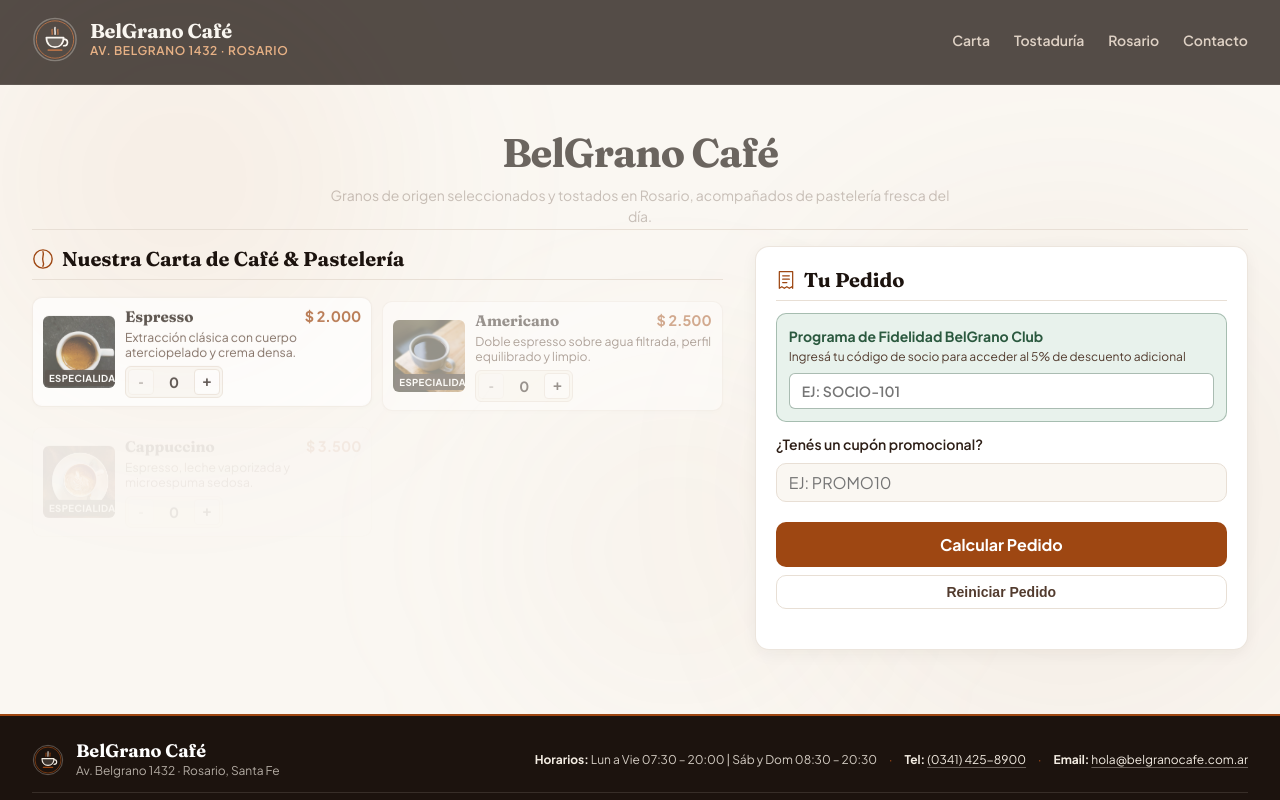
Test: Integration Tests: Flujos de Interfaz y Negocio (React Testing Library) › permite seleccionar un producto, modificar cantidad y calcular total sin descuentos (< $10.000)
This screenshot has width=1280, height=800.
Note: Incrementar 2 unidades de Espresso ($2.000 c/u)
Click the button named "Aumentar cantidad de Espresso".
click(207, 382)  # box [194,369,220,395]
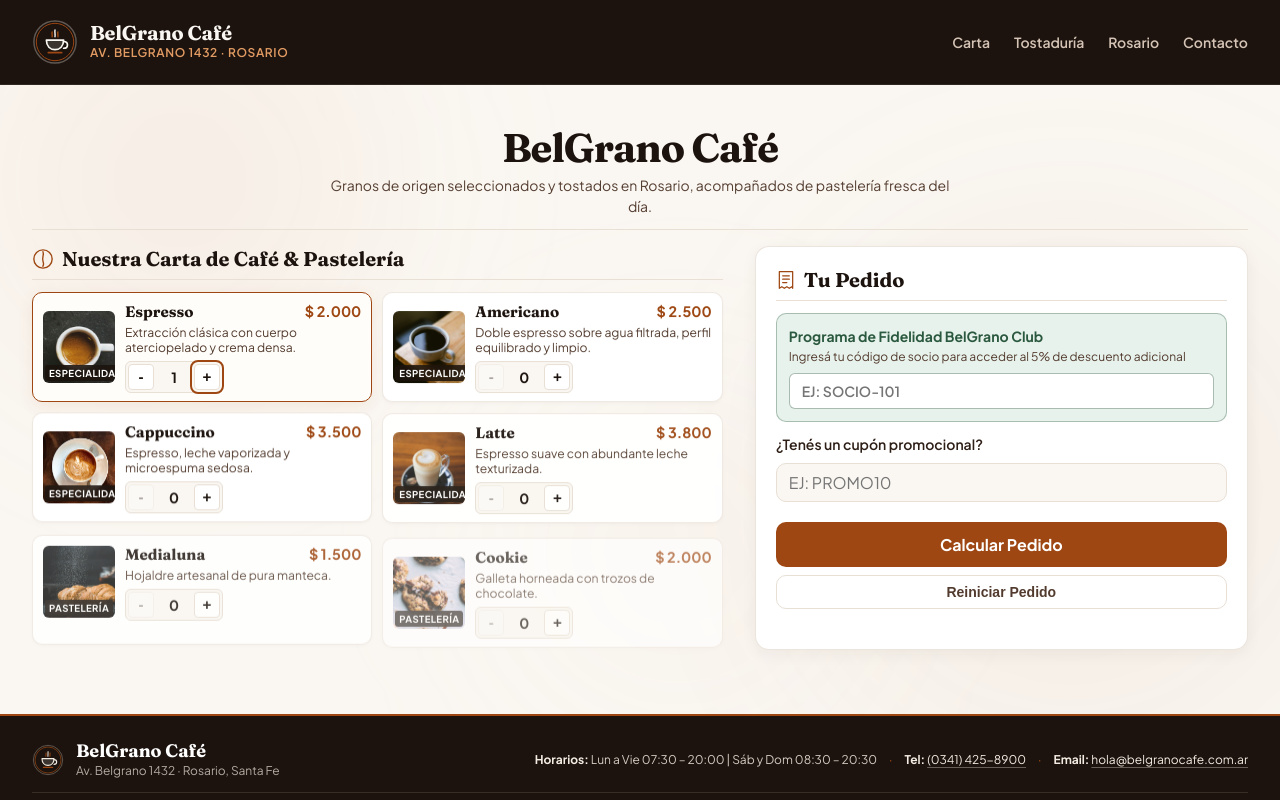
Click the button named "Aumentar cantidad de Espresso".
click(207, 377)  # box [194,364,220,390]
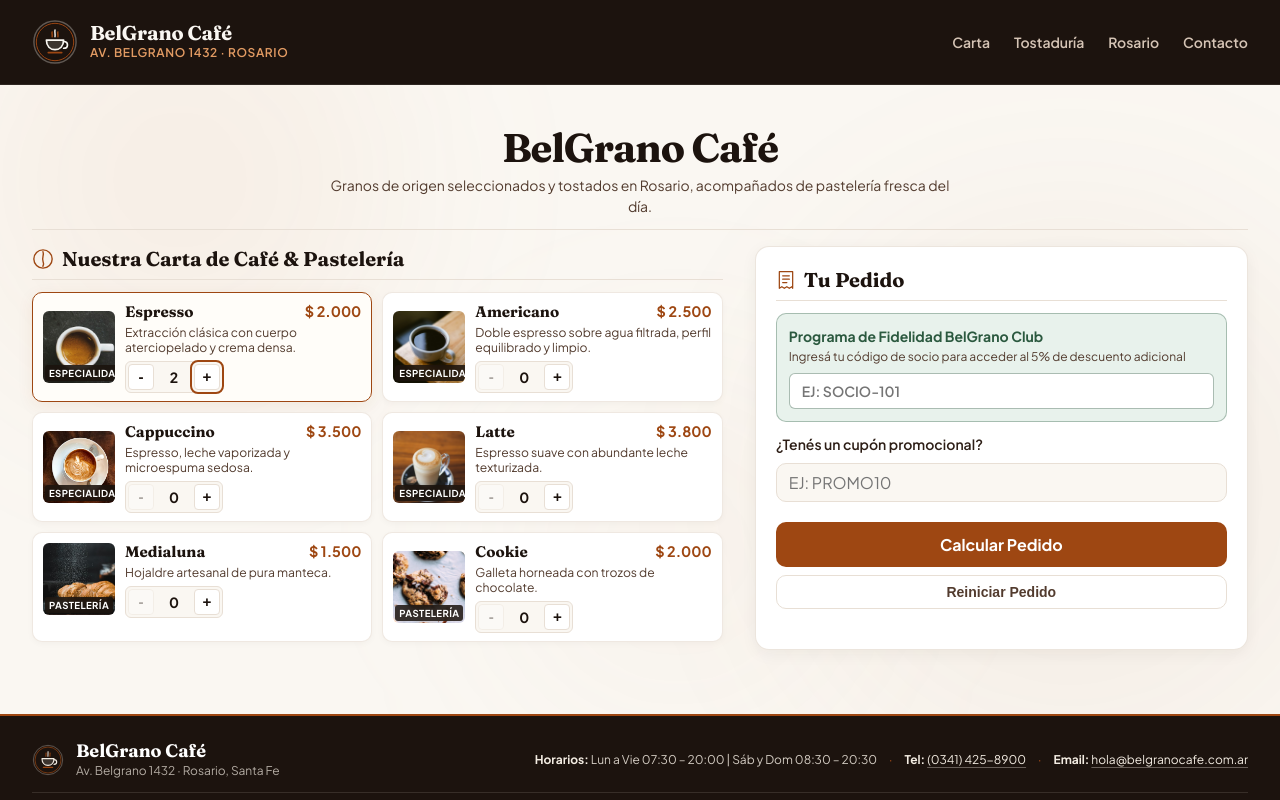
Result: the number field named "Cantidad de Espresso" holds "2" at [156,368,192,386]
Click the button "Calcular Pedido".
click(1001, 545)  # box [776,522,1227,567]
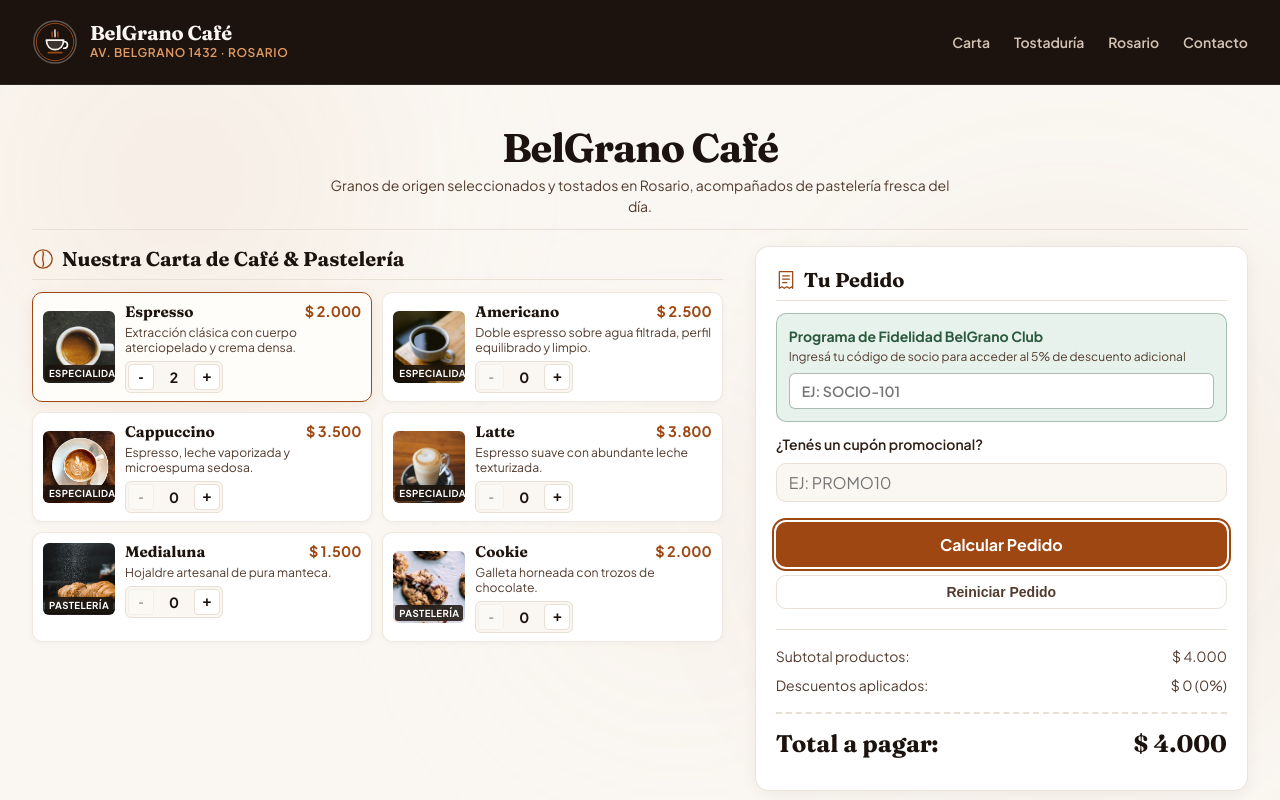
Result: the text "Subtotal productos:" is shown at [776,646,910,667]
Result: the text "Descuentos aplicados:" is shown at [776,675,928,696]
Result: the text "Total a pagar:" is shown at [776,726,938,762]
